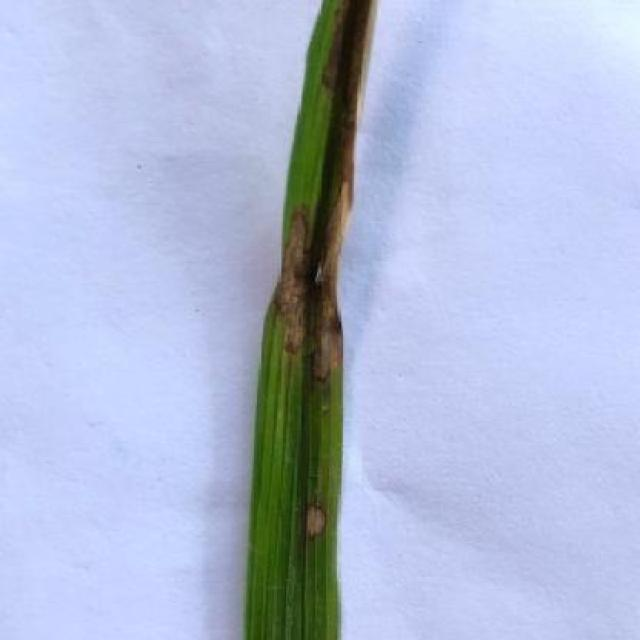Brown_Spot: (242, 0, 384, 640)
